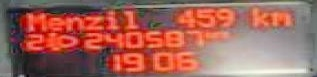0: (150, 50, 175, 70), (124, 32, 141, 48)
1: (110, 51, 119, 70)
2: (82, 32, 99, 48), (24, 33, 41, 49)
4: (175, 9, 195, 28), (102, 30, 122, 46)
5: (193, 6, 215, 25), (142, 30, 162, 47)
6: (175, 50, 199, 70)
7: (186, 28, 201, 45)
8: (164, 29, 184, 46)
9: (119, 51, 144, 70), (215, 6, 235, 25)
X: (248, 5, 268, 26), (24, 11, 46, 30), (268, 9, 292, 26), (121, 7, 137, 28), (101, 8, 117, 28), (82, 14, 102, 29), (64, 14, 81, 29), (46, 15, 61, 30), (212, 30, 230, 39), (202, 27, 213, 40)
